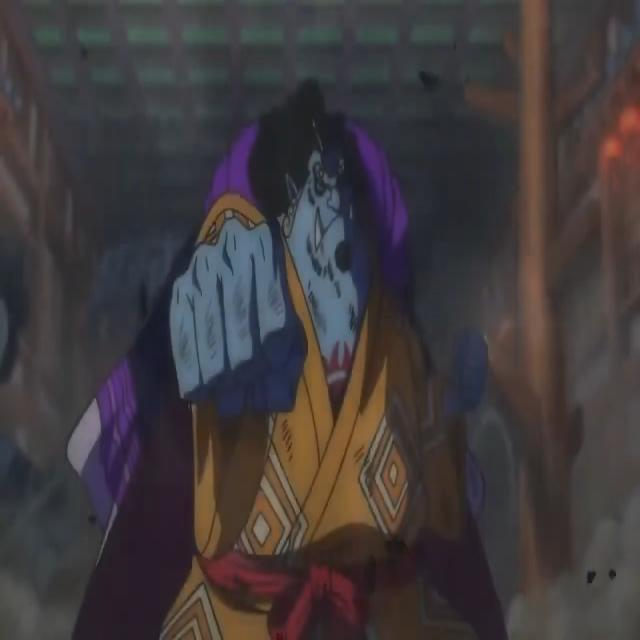Jinbe: (18, 64, 616, 637)
